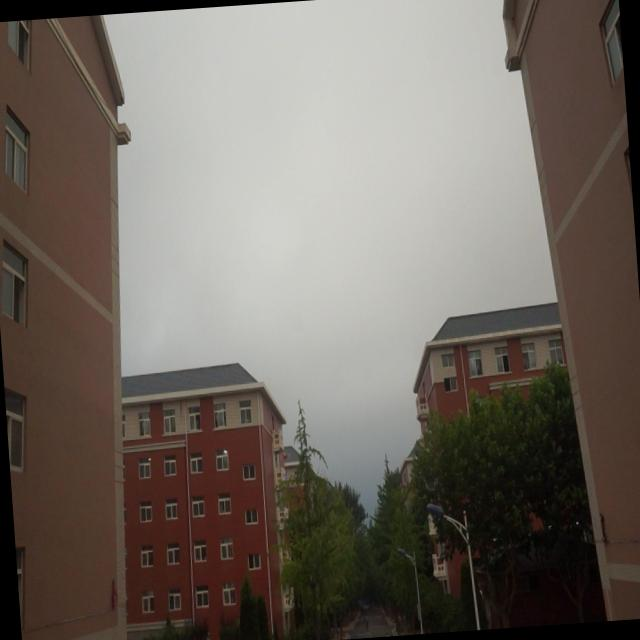drone: (276, 448, 290, 464)
